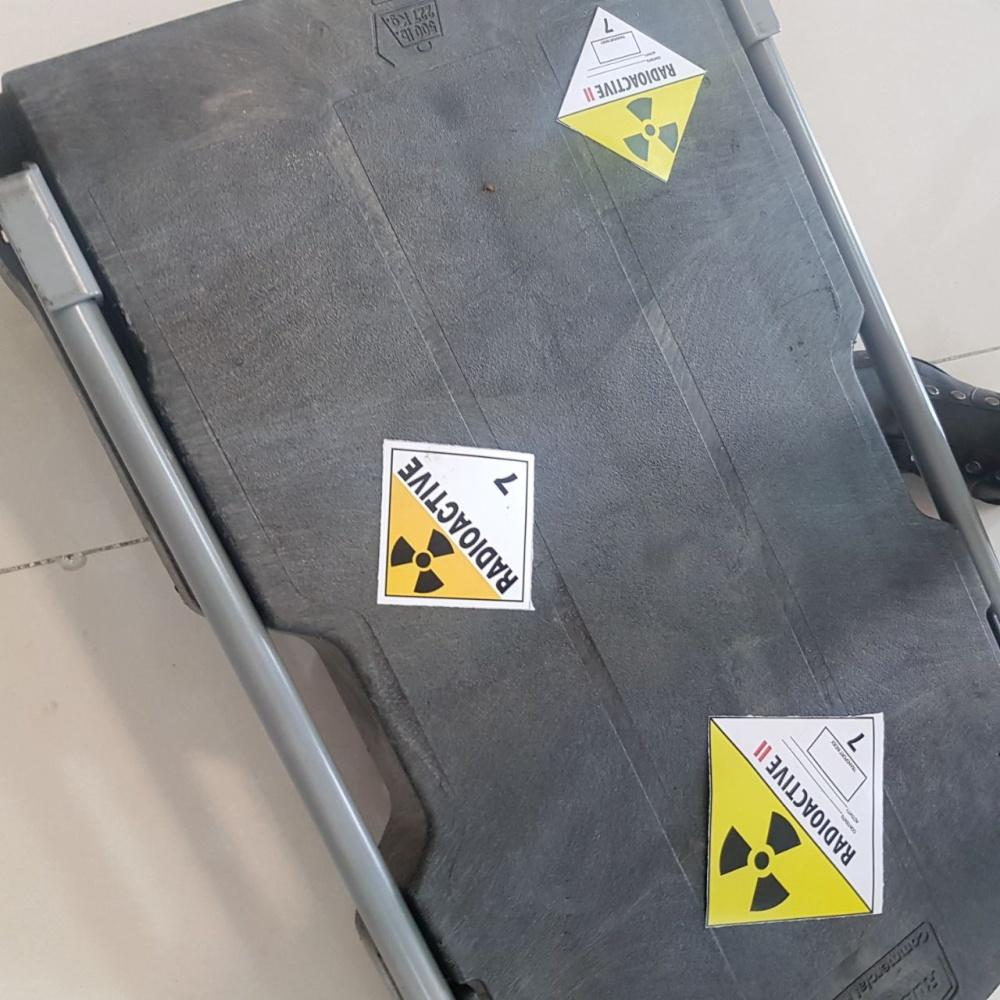radioactive: (709, 714, 879, 922), (556, 5, 717, 179), (378, 447, 537, 610)
